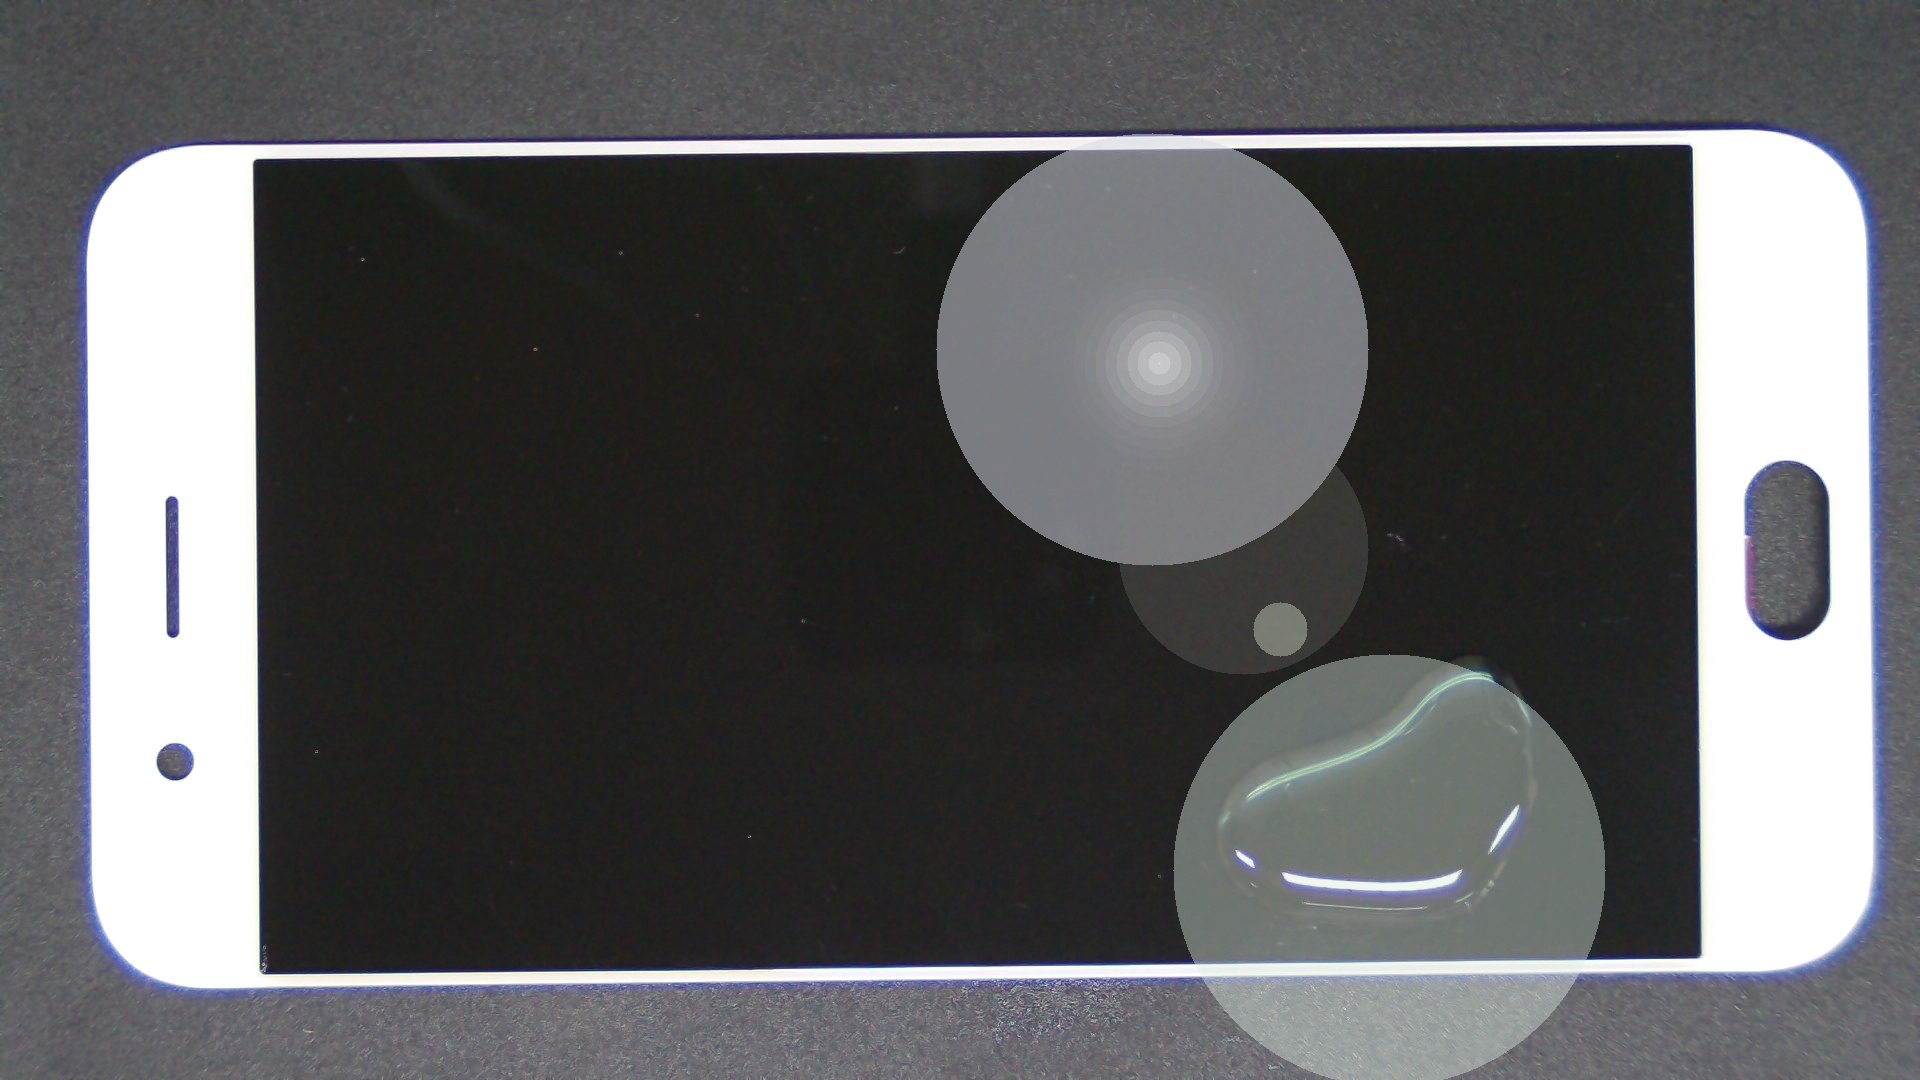oil: (737, 327, 1920, 981)
